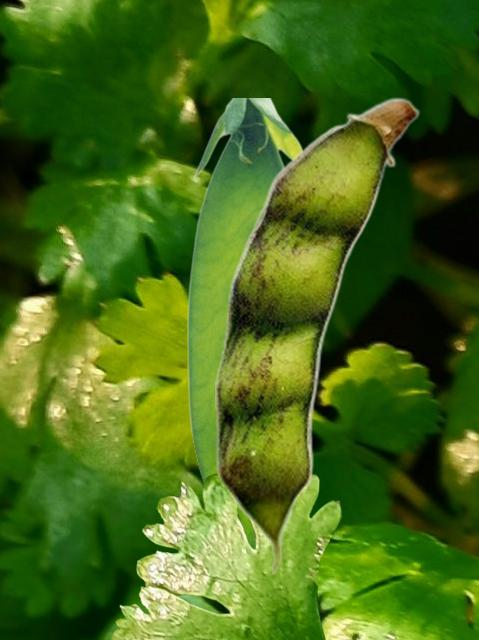pea: (215, 96, 419, 574), (186, 98, 302, 547)
